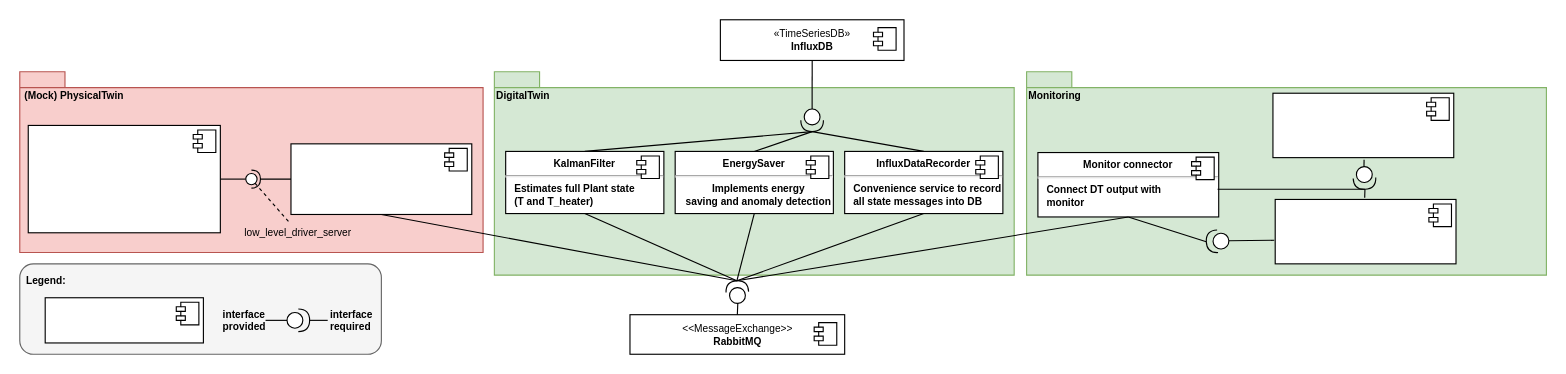
Image size: 1566x374. Some labels were removed from this diagram. The shapes that lost their labels are listed below. From the top down, each one's box as (x1, y1, x2, y2) in pixels, then its label:
(1272, 92, 1454, 158): omniNames CORBA naming service
(27, 124, 220, 233): Plant + T: Int # Air temperature + heater_on: Bool # Status of heater
(290, 143, 472, 214): Controller
(1274, 198, 1456, 264): NuRV service Monitor safe_operation.smv
(44, 297, 203, 343): Component Main variables, or responsibility.
